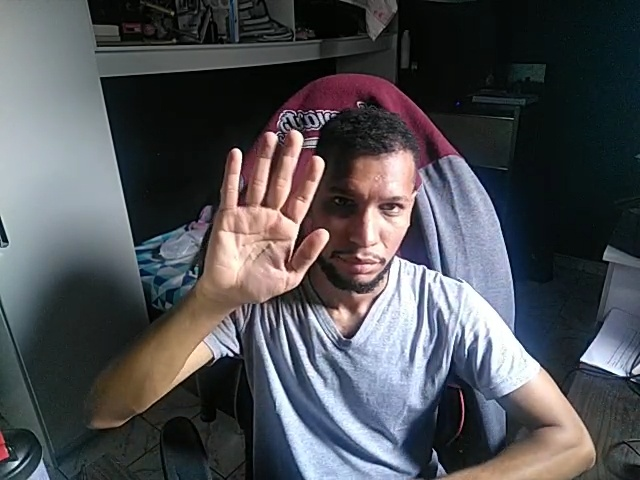oi: (199, 127, 329, 308)
